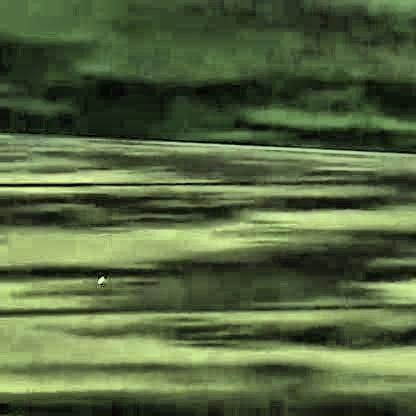golfball: (95, 272, 102, 282)
